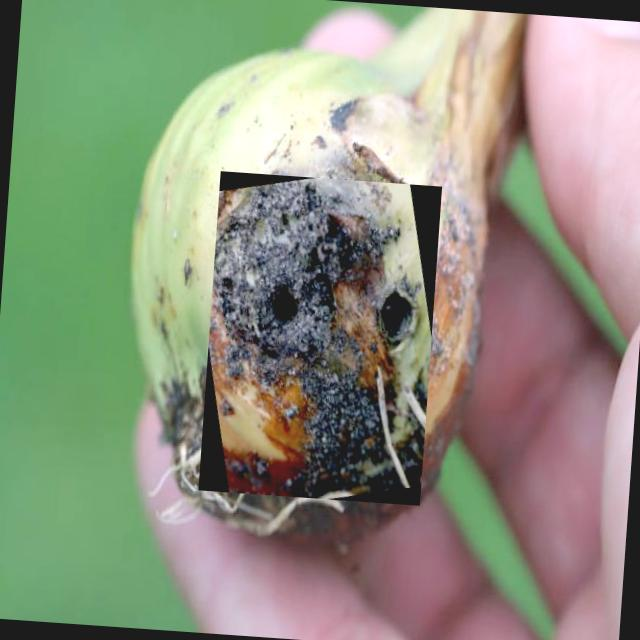mould: (198, 170, 442, 506)
